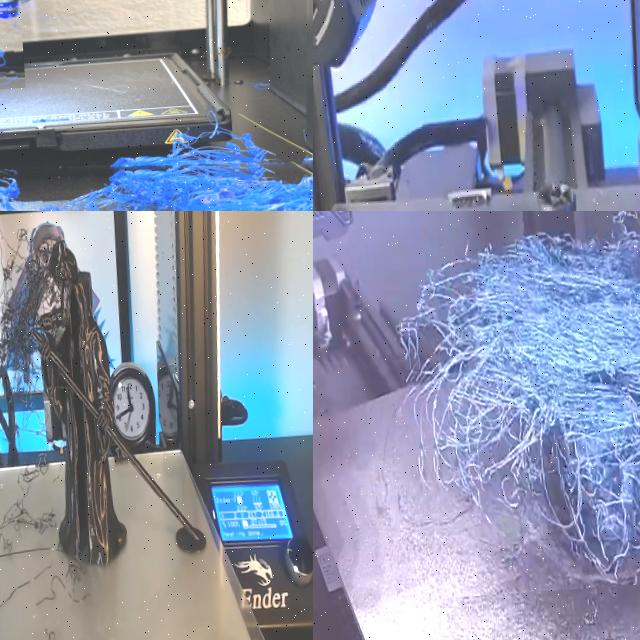spaghetti: (406, 211, 640, 588), (0, 163, 313, 211), (0, 226, 64, 381), (0, 253, 3, 295)
